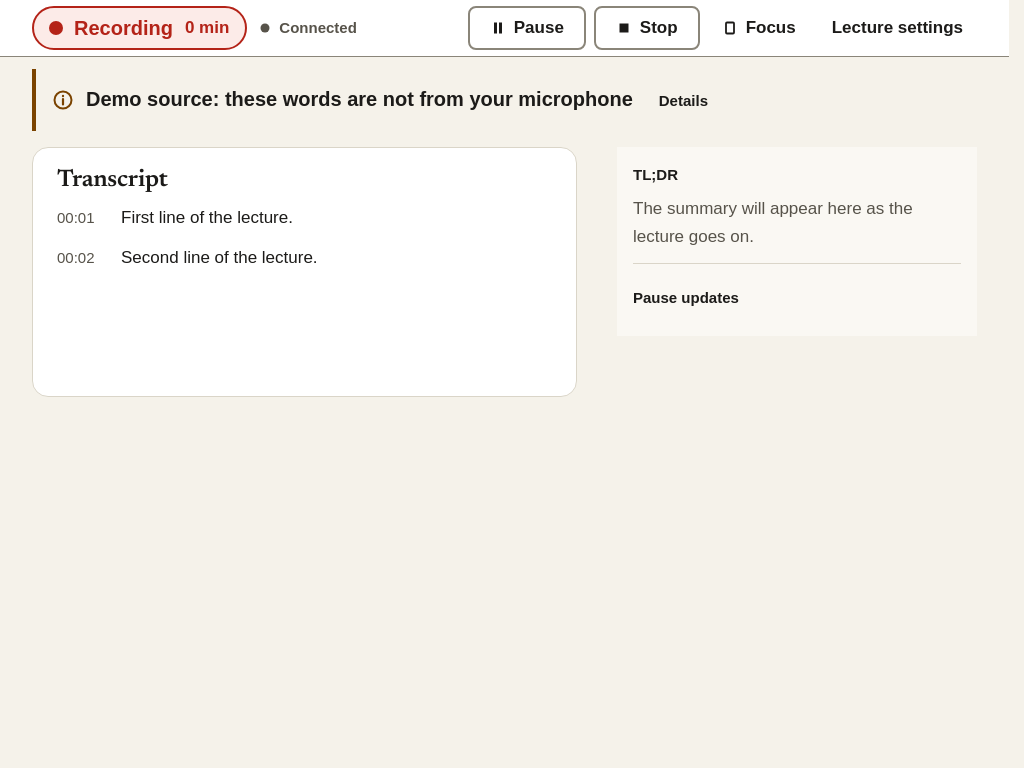
it: criterion 3: the student's own Stop opens the move notice › Escape closes it and focuses #stopped-h2; the link to the lecture's page is in the Stopped note
This screenshot has width=1024, height=768.
Click the button "Stop". click: click(647, 28)
box: [594,6,700,50]
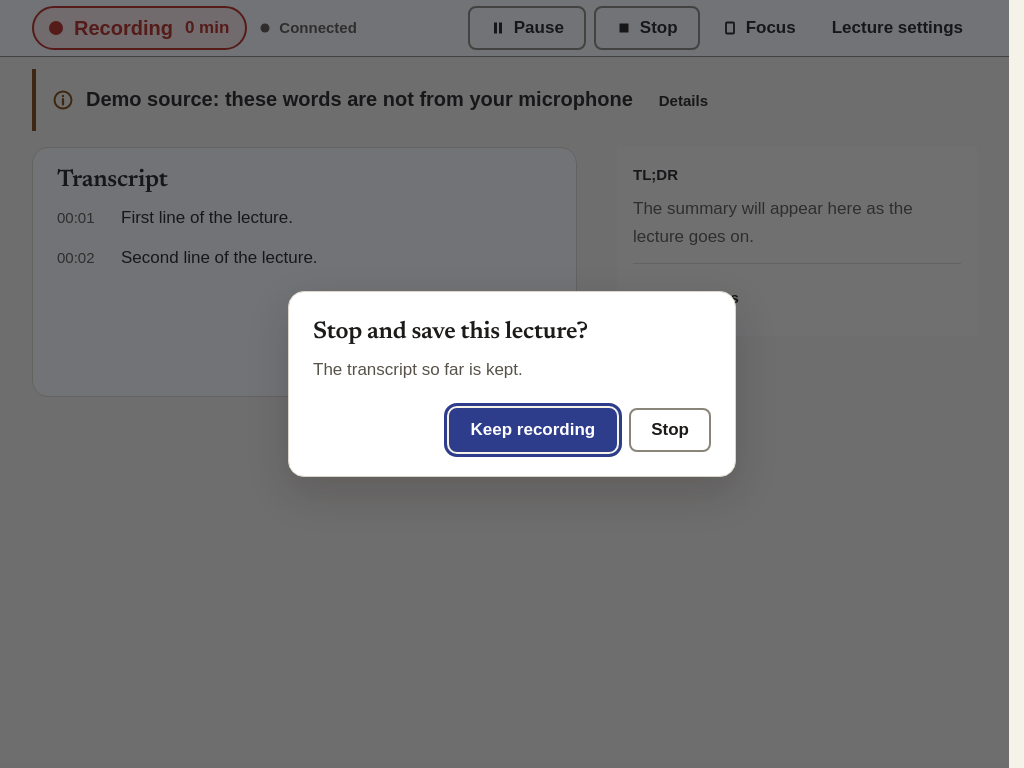
Click the button "Stop". click: click(670, 430)
box: [629,408,711,452]
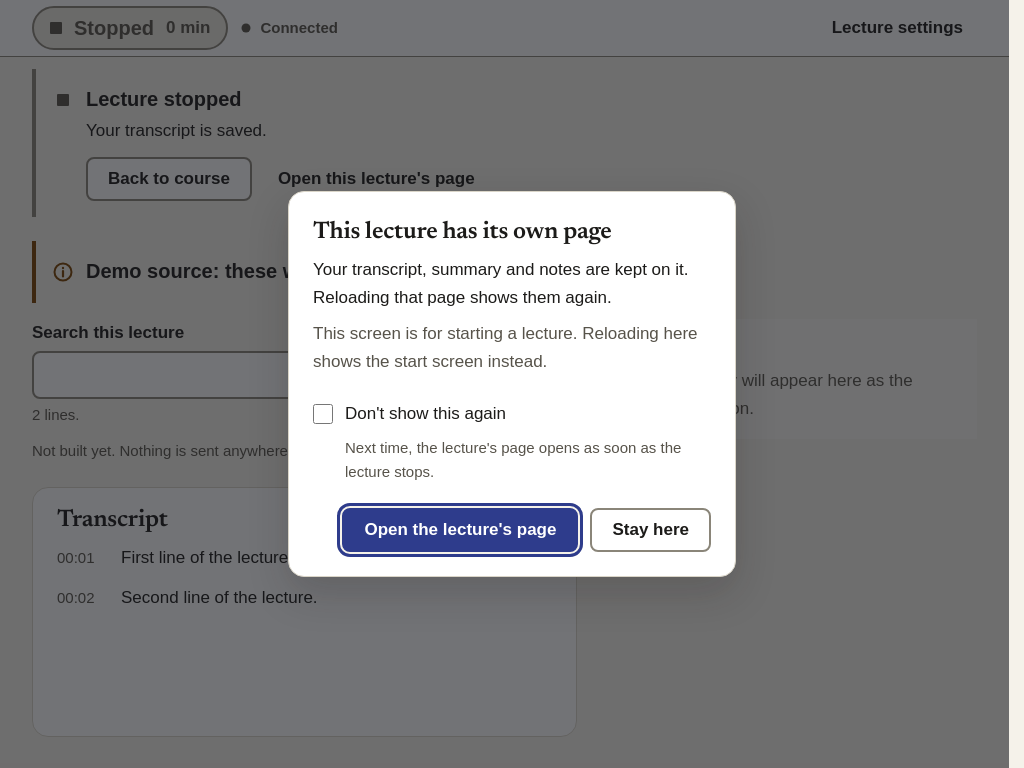
Expected: the dialog "This lecture has its own page" is shown, [288,191,736,577]
Press Escape
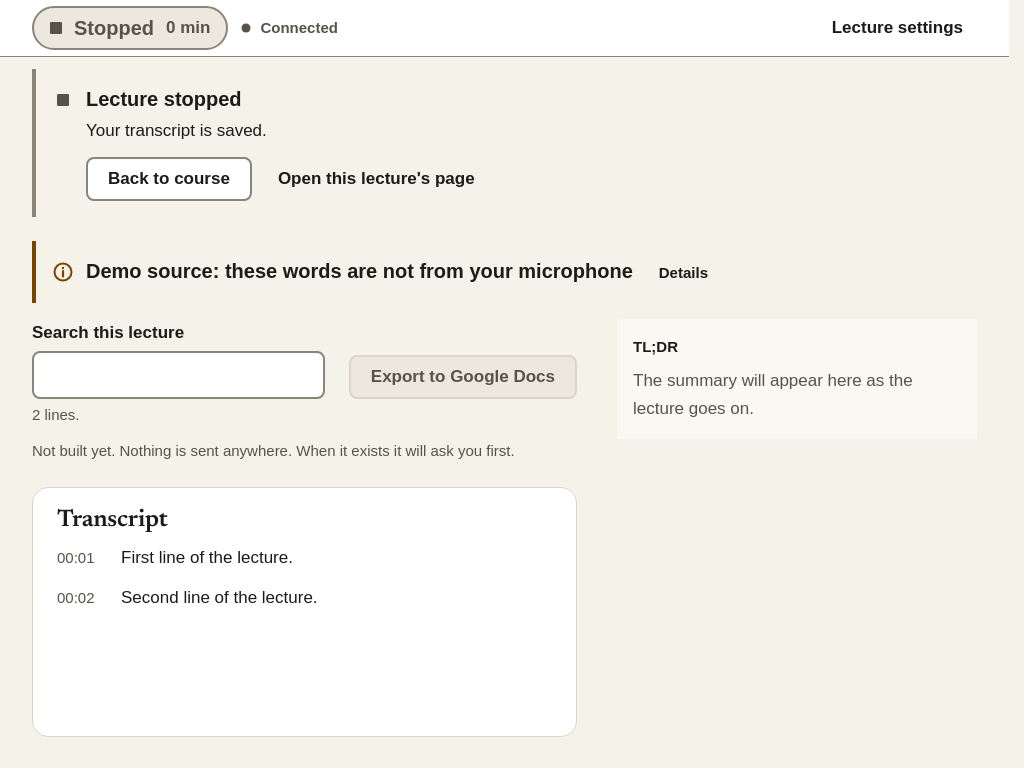
Expected: the heading "This lecture has its own page" is gone
